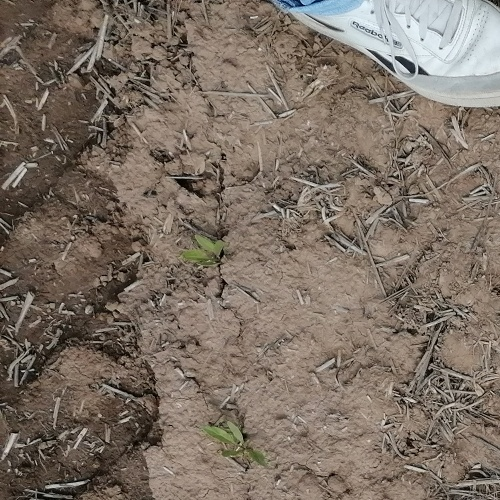beet: (206, 422, 269, 470), (183, 234, 224, 269)
